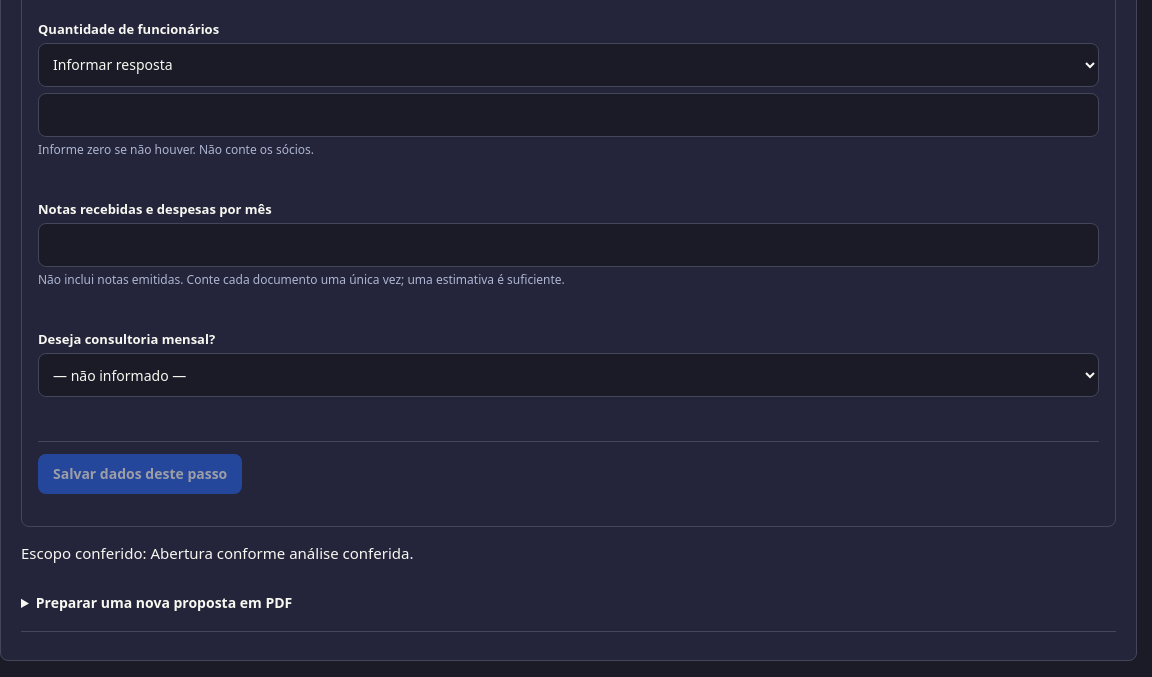
Test: gerar proposta pela aba de preparação mostra imediatamente o resultado (anterior: false)
(page scrolled)
Click the heading "Preparar uma nova proposta em PDF": {"x": 164, "y": 603} [36,593,292,612]
(page scrolled)
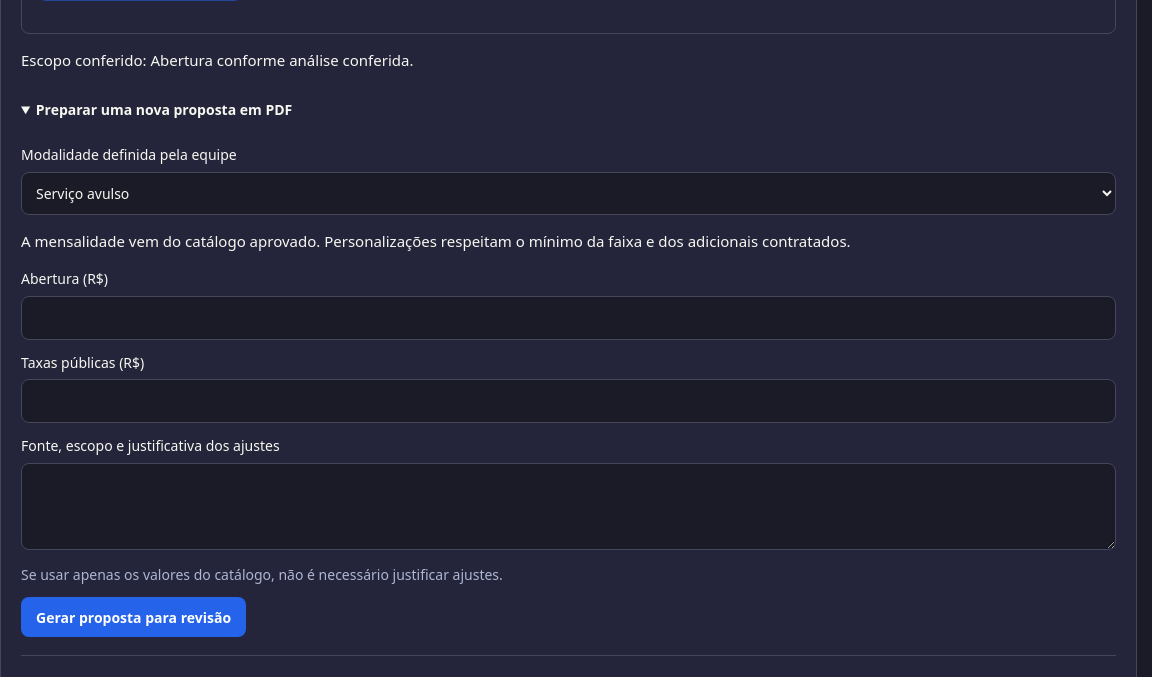
In the field labelled "Abertura (R$)": {"x": 568, "y": 318} [21,296,1116,340], type "895"
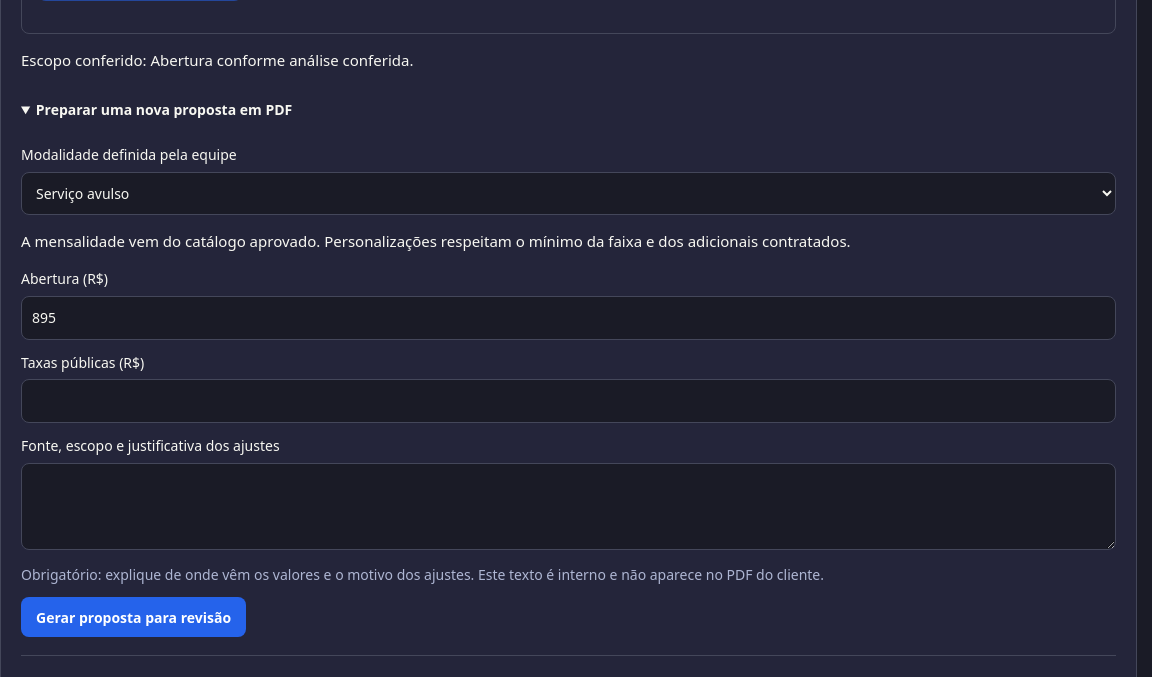
In the text box labelled "Fonte, escopo e justificativa dos ajustes": {"x": 568, "y": 506} [21,463,1116,550], type "Orçamento de abertura conferido pelo escritório."
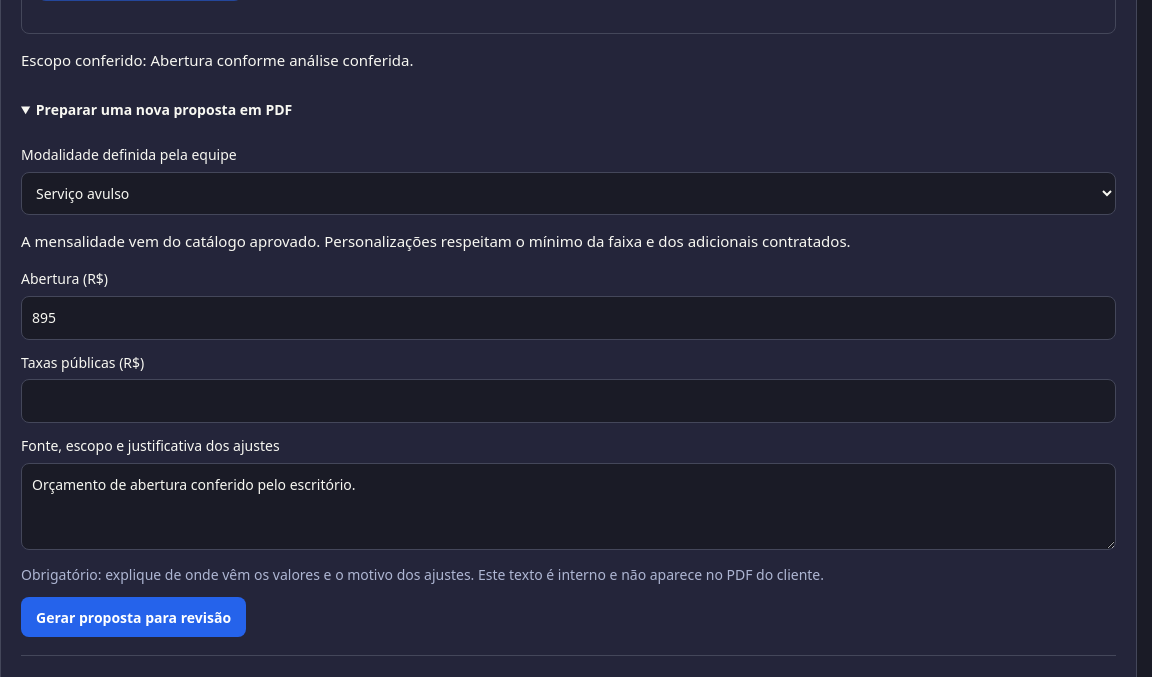
Click the button "Gerar proposta para revisão": {"x": 134, "y": 617} [21,597,246,637]
(page scrolled)
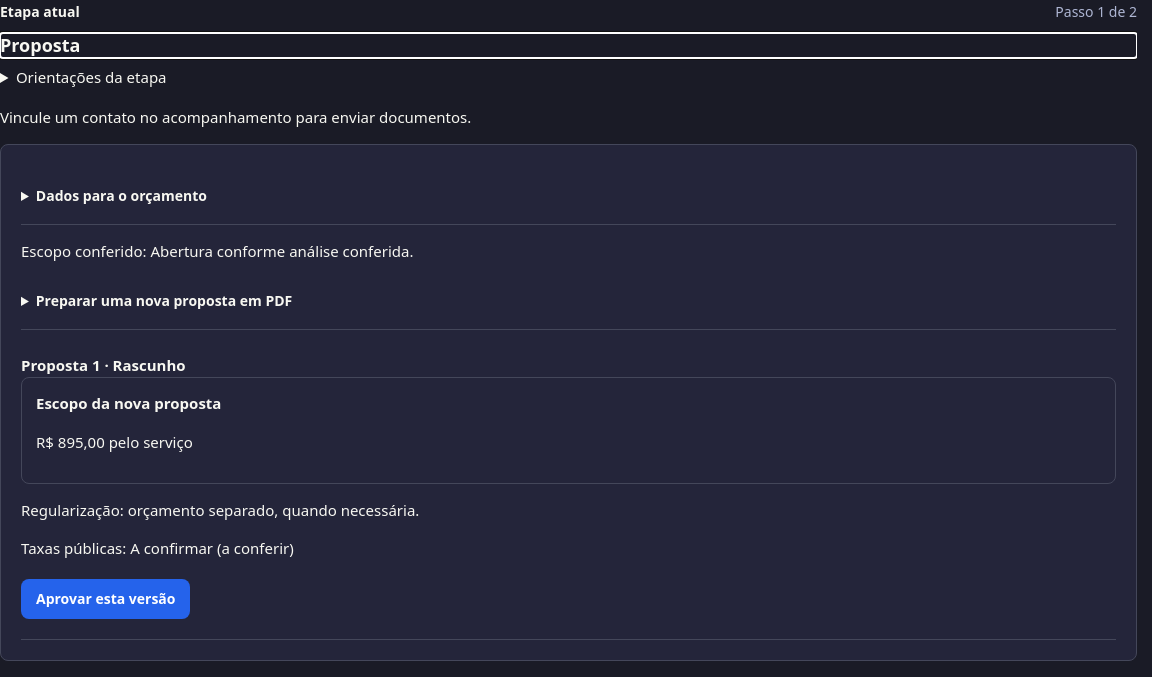
Expected: the text "Escopo da nova proposta" is shown, [36,393,221,413]
Expected: the button "Aprovar esta versão" is shown, [21,579,190,619]
